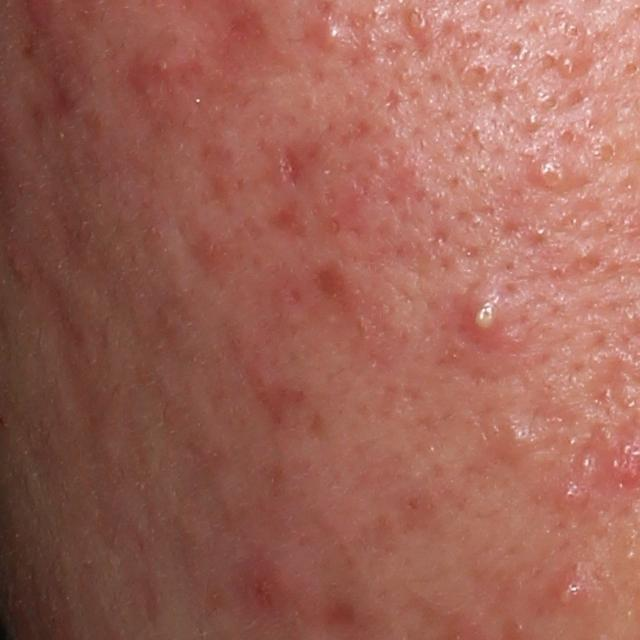atrophic_scar: (570, 347, 640, 419), (571, 419, 619, 497), (254, 382, 317, 438), (310, 255, 361, 302), (268, 140, 310, 194), (264, 202, 322, 240)
comedo: (537, 90, 563, 114), (565, 20, 587, 44), (524, 113, 544, 132), (480, 1, 497, 19)
papule: (228, 537, 323, 616), (129, 36, 217, 104), (303, 6, 361, 57), (190, 226, 235, 274), (496, 421, 540, 461), (555, 479, 593, 512), (400, 5, 436, 39)
pustule: (546, 572, 599, 614), (531, 156, 572, 193)
